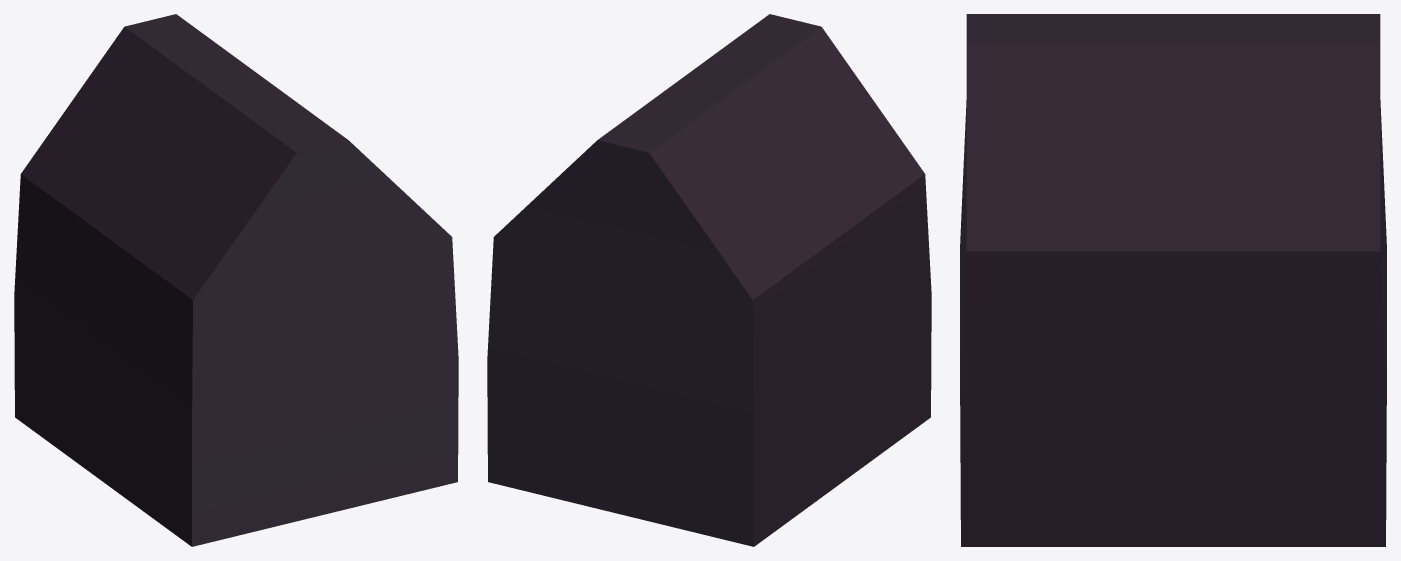
File: House03_Black.glb
The picture shows the model from 3 angles, left to right: view 1: azimuth 30°, elevation 25°; view 2: azimuth 150°, elevation 25°; view 3: azimuth 270°, elevation 25°; orthographic projection. The views are drawn at different scales.
Parts seen in each view (by area): view 1: House03_Black; view 2: House03_Black; view 3: House03_Black.
Boxes of the visible parts, x1,y1,x2,y2 form: House03_Black: (14, 14, 458, 546); House03_Black: (487, 14, 931, 546); House03_Black: (960, 14, 1386, 546).
Bounding box in the file's own units: 1.91 × 2.51 × 2.21.
1 material, 1 textured.
